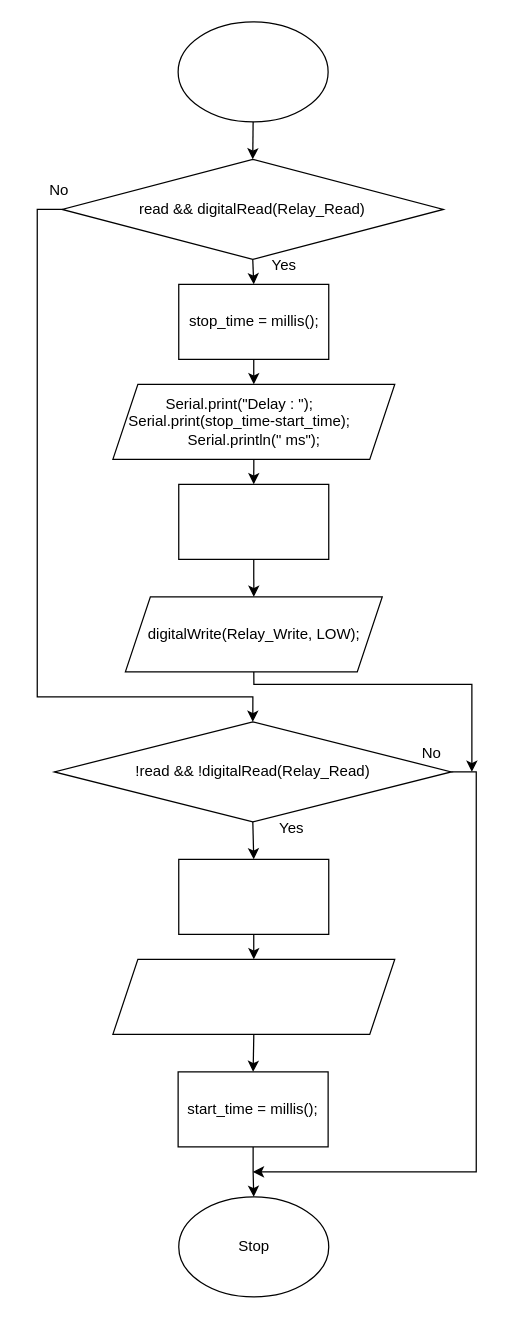
Image size: 508x1319. Some labels were removed from this diagram. Here are the shapes that lost their labels. From the top down, the centre of each, then its label:
the point at 252,71: loop()
the point at 253,521: read = 0;
the point at 253,896: read = 1;
the point at 253,996: digitalWrite(Relay_Write, HIGH);
